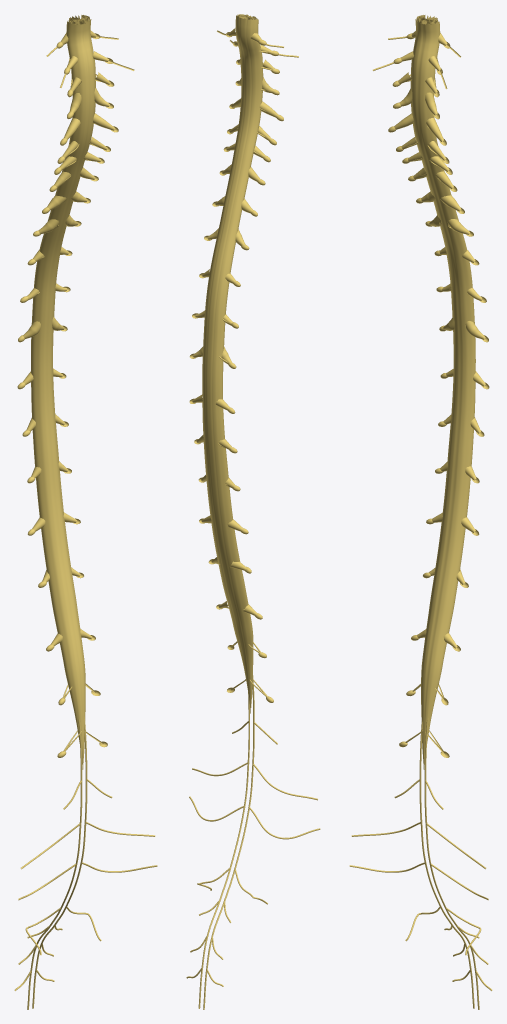
File: spinal-cord.glb
The picture shows the model from 3 angles, left to right: view 1: azimuth 30°, elevation 25°; view 2: azimuth 150°, elevation 25°; view 3: azimuth 330°, elevation 25°; orthographic projection. The views are drawn at different scales.
Parts seen in each view (by area): view 1: ZA_spinal_dura, ZA_cauda_equina, ZA_spinal_ganglion_r, ZA_spinal_ganglion_l; view 2: ZA_spinal_dura, ZA_cauda_equina, ZA_spinal_ganglion_r, ZA_spinal_ganglion_l; view 3: ZA_spinal_dura, ZA_cauda_equina, ZA_spinal_ganglion_r, ZA_spinal_ganglion_l.
Part boxes in pixels (left/top/right/bottom): ZA_spinal_dura: left=23, top=19, right=115, bottom=769; ZA_cauda_equina: left=14, top=716, right=157, bottom=1009; ZA_spinal_ganglion_r: left=17, top=41, right=73, bottom=757; ZA_spinal_ganglion_l: left=59, top=33, right=118, bottom=747; ZA_spinal_dura: left=192, top=15, right=278, bottom=713; ZA_cauda_equina: left=186, top=675, right=320, bottom=1009; ZA_spinal_ganglion_r: left=227, top=40, right=283, bottom=702; ZA_spinal_ganglion_l: left=189, top=32, right=240, bottom=692; ZA_spinal_dura: left=394, top=19, right=485, bottom=768; ZA_cauda_equina: left=349, top=717, right=492, bottom=1009; ZA_spinal_ganglion_r: left=388, top=33, right=447, bottom=747; ZA_spinal_ganglion_l: left=433, top=41, right=489, bottom=757.
Bounding box in the file's own units: 0.0932 × 0.6509 × 0.0776.
